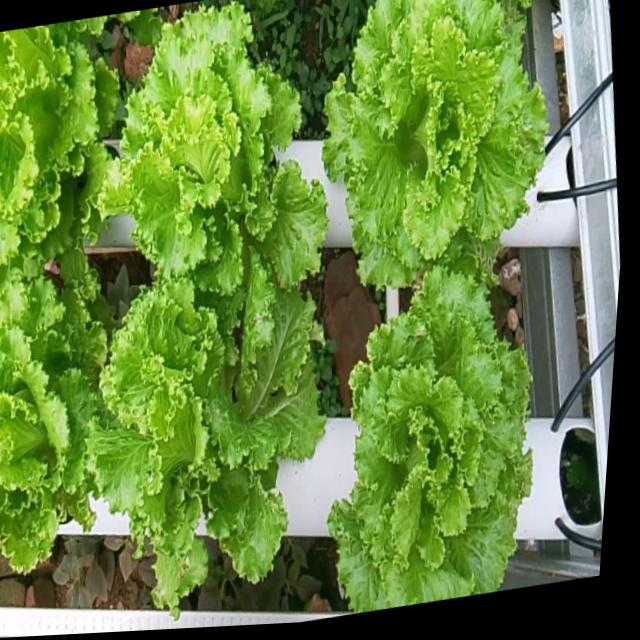Mature: (90, 282, 325, 608), (327, 260, 532, 610), (101, 0, 327, 293), (322, 0, 548, 287), (0, 23, 118, 298), (0, 274, 107, 570)
